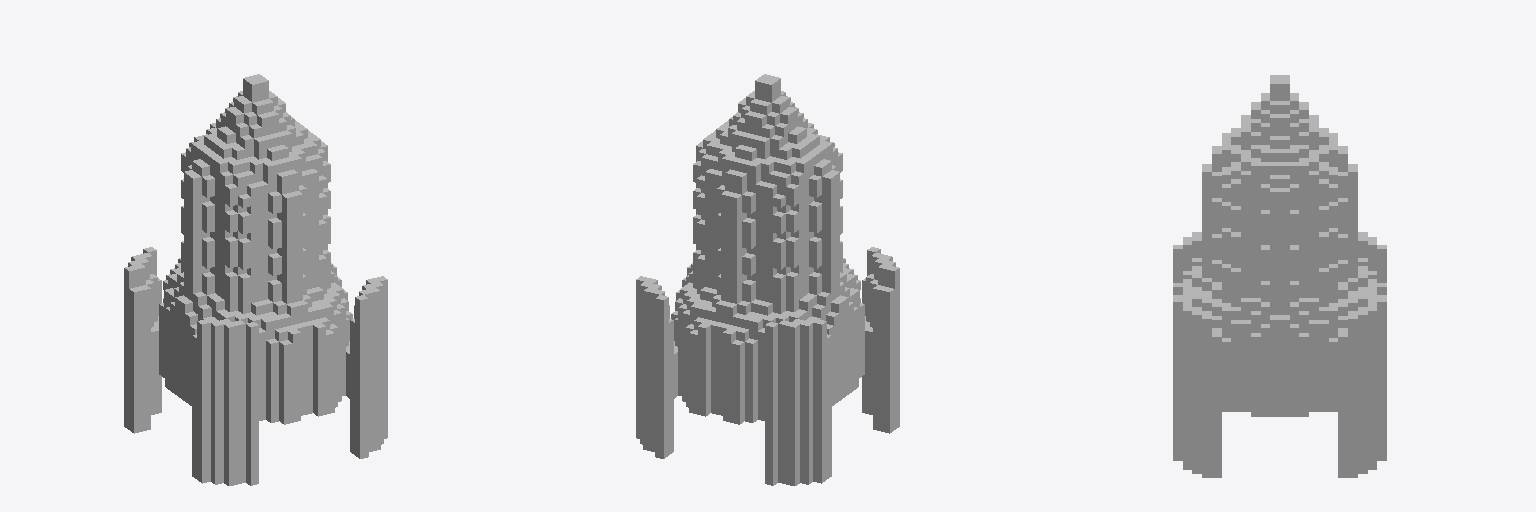
The model's file is Rocket Ship.obj.
3 renders of one model, left to right at view 1: azimuth 30°, elevation 25°; view 2: azimuth 150°, elevation 25°; view 3: azimuth 270°, elevation 25°, orthographic.
Visible parts, largest first — view 1: object 1; view 2: object 1; view 3: object 1.
Part boxes in pixels (x1,y1,x2,y2): object 1: (124,74,387,485); object 1: (636,74,899,485); object 1: (1173,75,1386,477).
Bounding box in the file's own units: 2.2 × 4 × 2.2.